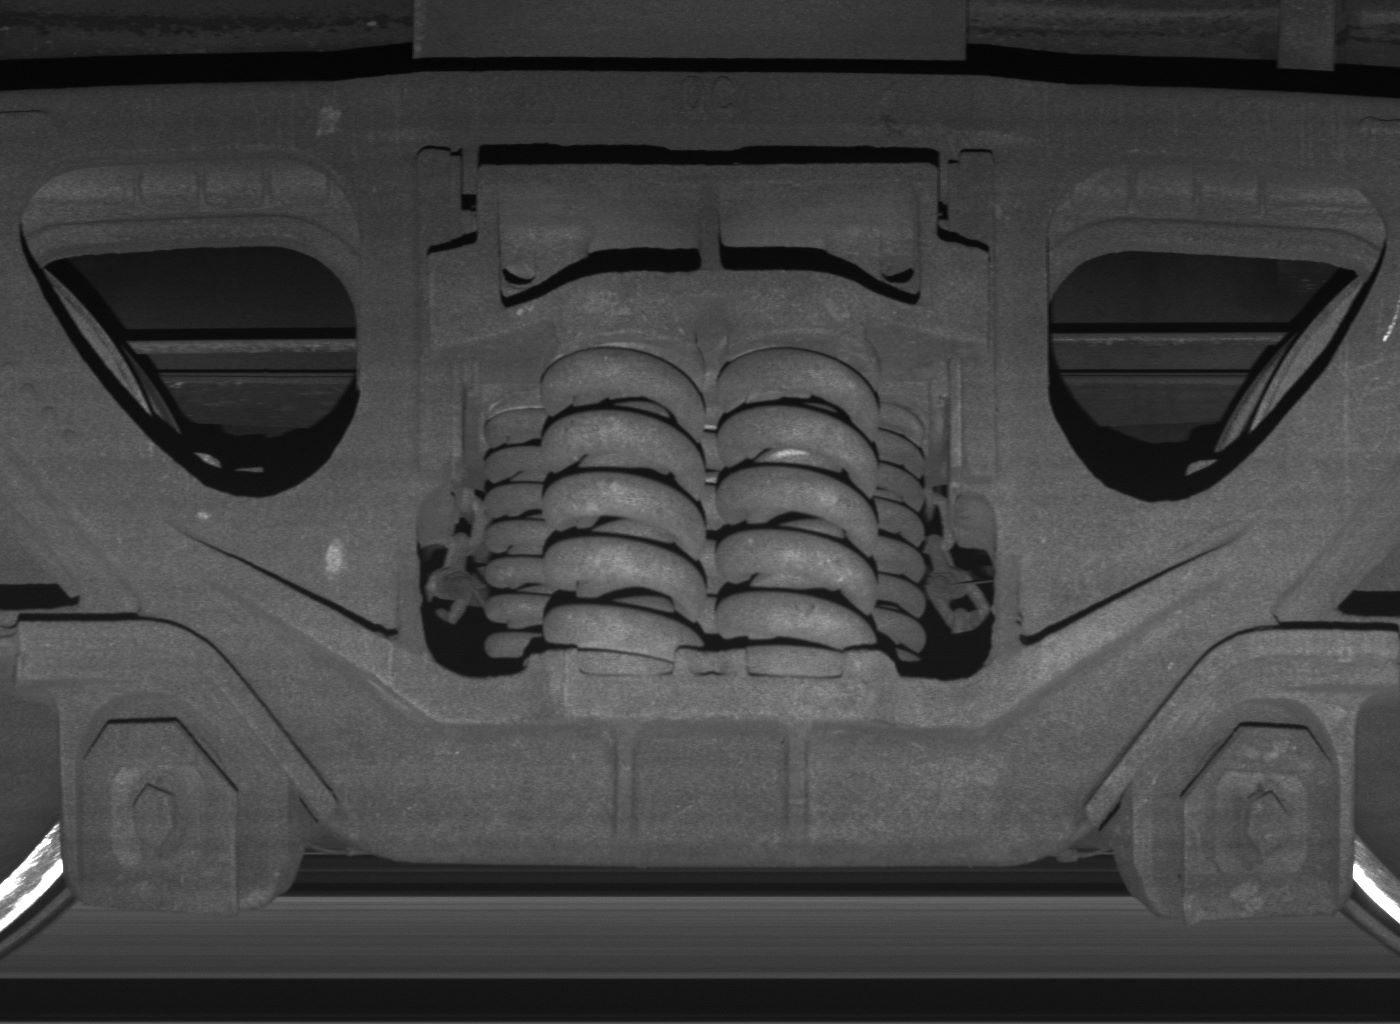normal: (63, 690, 285, 916), (1133, 702, 1353, 929)
